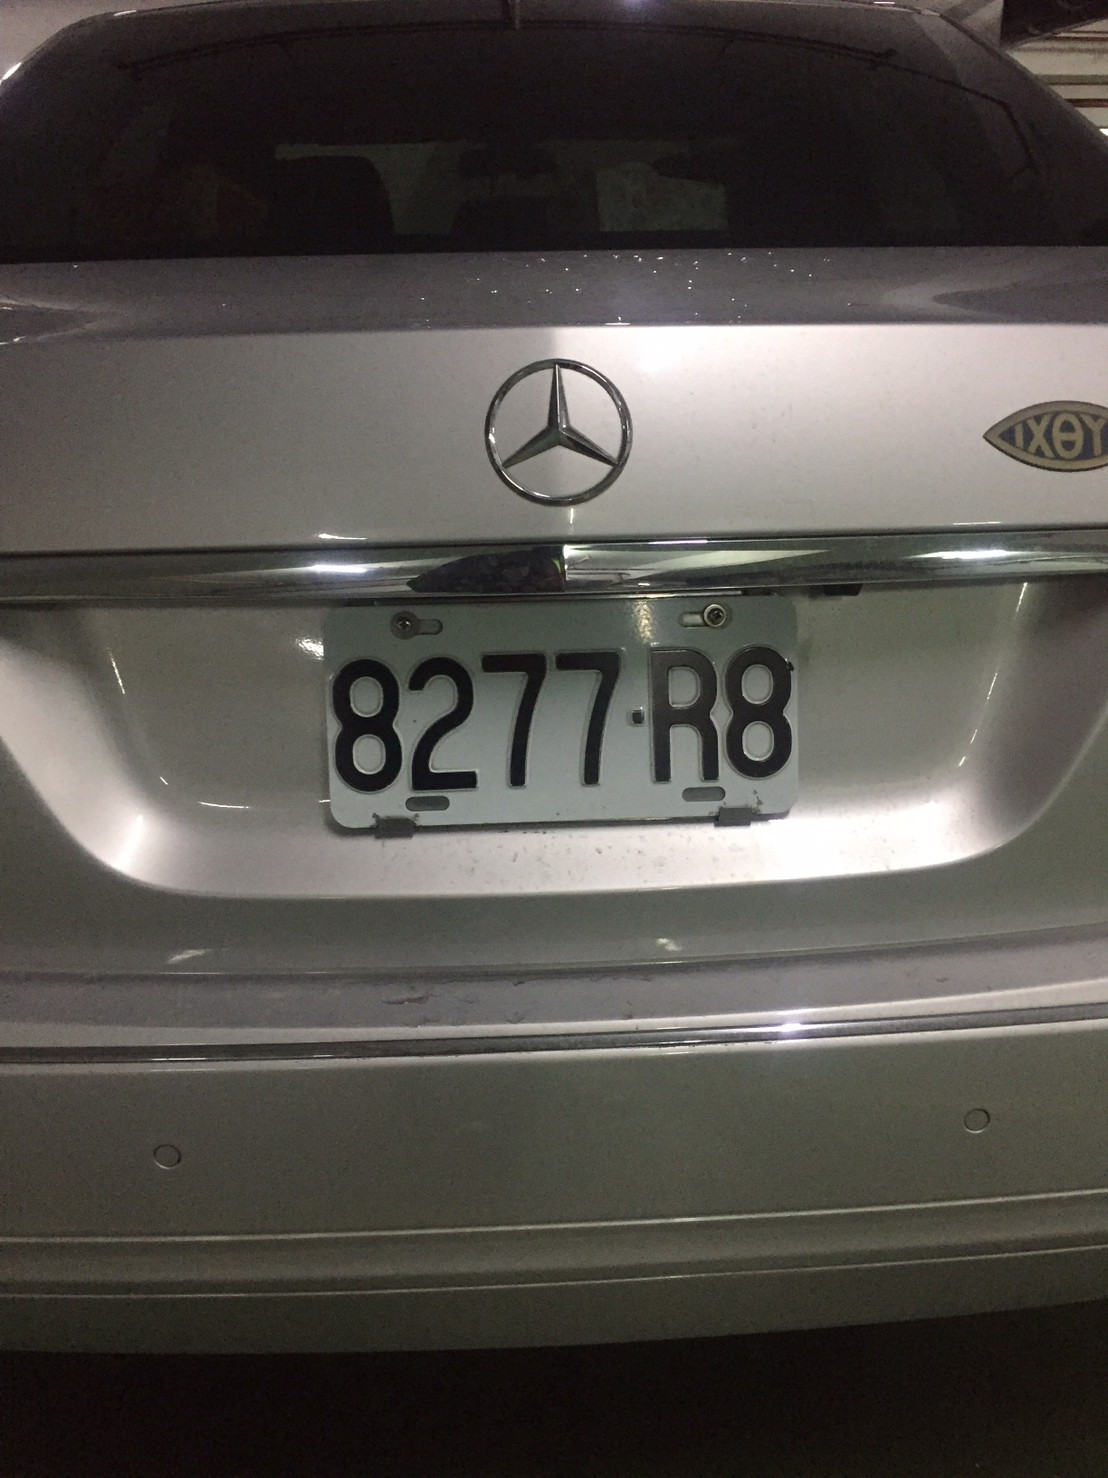LP: (308, 594, 819, 831)
